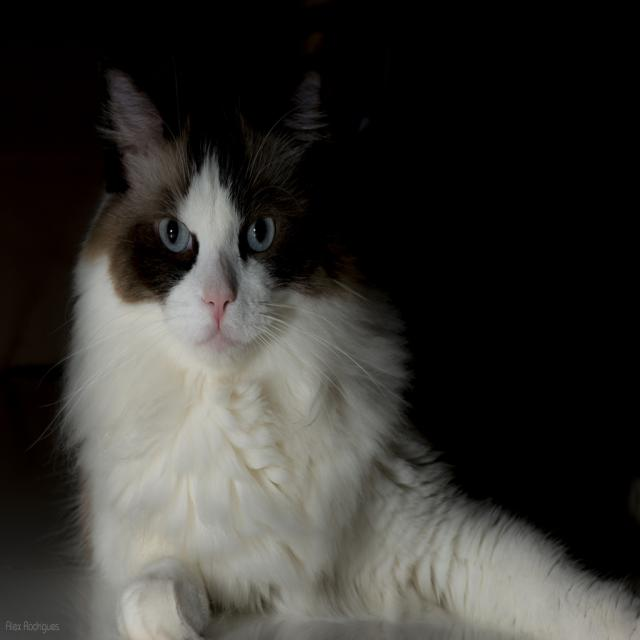Cat: (20, 23, 639, 639)
